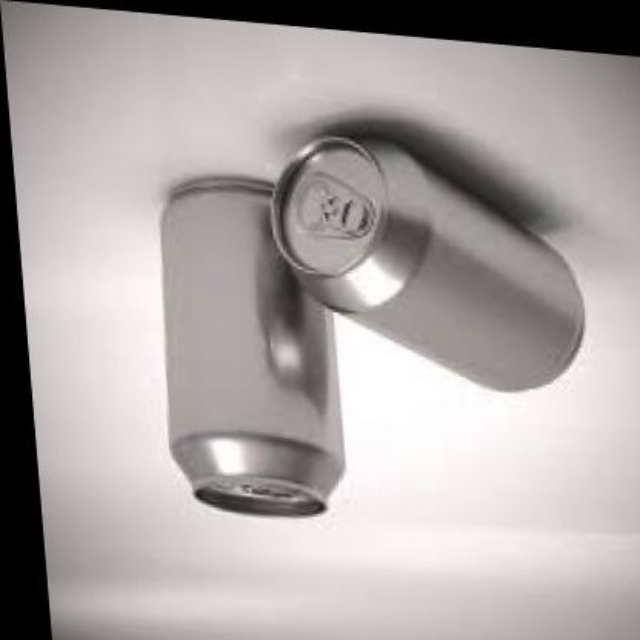trash: (162, 137, 583, 514), (272, 137, 583, 389), (162, 177, 343, 514)
